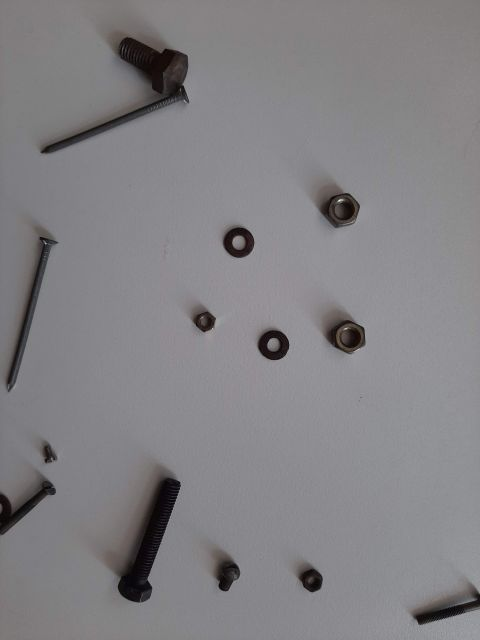gwozdz: (15, 75, 205, 155)
nakretka: (305, 175, 385, 235), (325, 305, 385, 365), (275, 535, 335, 595), (185, 295, 235, 355)
podkladka: (185, 205, 275, 275), (245, 305, 305, 365)
sruba: (95, 445, 185, 615), (95, 15, 205, 95), (205, 535, 245, 615)
